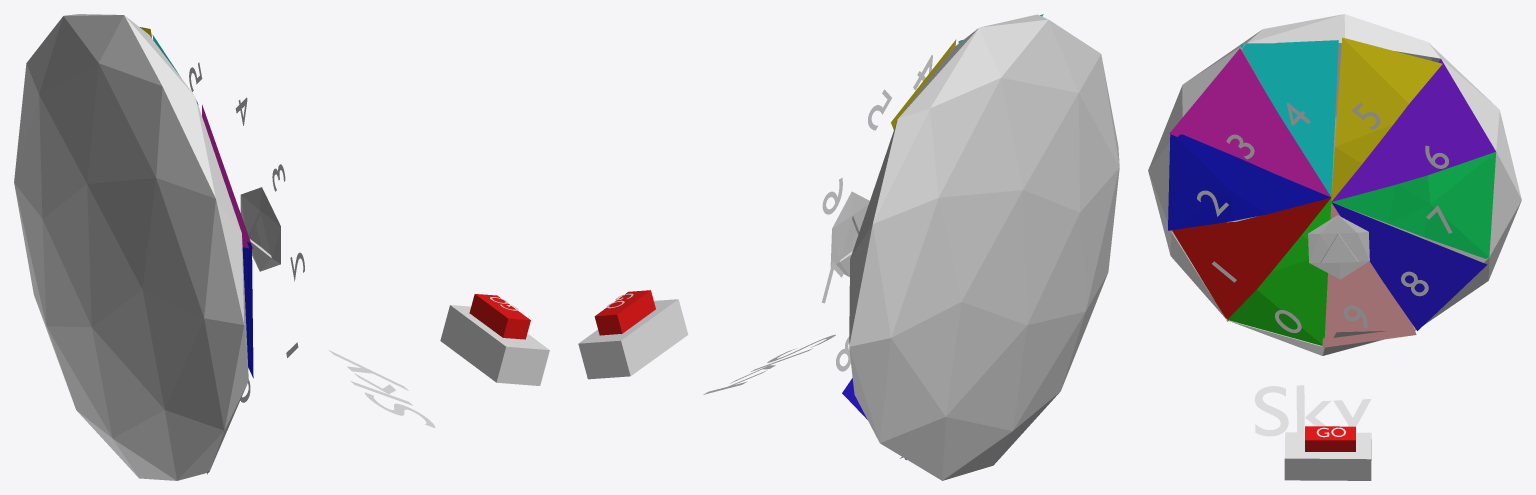
File: FINALRULETA.fbx
3 renders of one model, left to right at view 1: azimuth 30°, elevation 25°; view 2: azimuth 150°, elevation 25°; view 3: azimuth 270°, elevation 25°, orthographic. The views are drawn at different scales.
Visible parts, largest first — view 1: ATRAS, Cube.001, FLECHA, Cube.003, Text; view 2: ATRAS, Cube.001, FLECHA, Cube.003; view 3: ATRAS, Cube.001, FLECHA, Text, Cube.003.
Boxes of the visible parts, bbox=[...] form: ATRAS: bbox=[14, 14, 304, 480]; Cube.001: bbox=[440, 305, 549, 385]; FLECHA: bbox=[240, 187, 280, 271]; Cube.003: bbox=[469, 294, 530, 339]; Text: bbox=[329, 350, 435, 427]; ATRAS: bbox=[822, 14, 1119, 480]; Cube.001: bbox=[578, 299, 688, 379]; FLECHA: bbox=[830, 191, 869, 276]; Cube.003: bbox=[594, 290, 655, 335]; ATRAS: bbox=[1148, 14, 1521, 355]; Cube.001: bbox=[1284, 432, 1371, 480]; FLECHA: bbox=[1308, 215, 1369, 279]; Text: bbox=[1254, 385, 1371, 436]; Cube.003: bbox=[1305, 426, 1355, 451].
Bounding box in the file's own units: 426 × 430 × 426.
